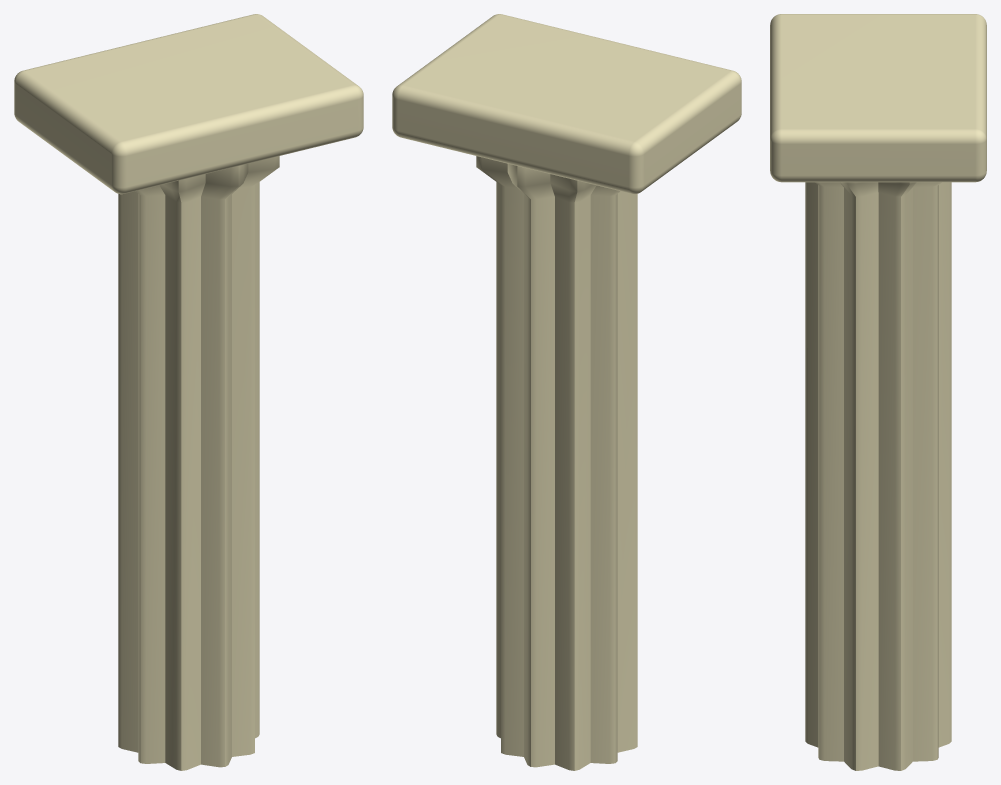
The model's file is Pillar.fbx.
The picture shows the model from 3 angles, left to right: view 1: azimuth 30°, elevation 25°; view 2: azimuth 150°, elevation 25°; view 3: azimuth 270°, elevation 25°; orthographic projection.
Visible parts, largest first — view 1: pCylinder2; view 2: pCylinder2; view 3: pCylinder2.
Boxes of the visible parts, x1,y1,x2,y2 form: pCylinder2: (14,14,363,770); pCylinder2: (392,14,741,770); pCylinder2: (770,14,986,770).
Size of the model in its own units: 1.81 by 4.58 by 1.34.
